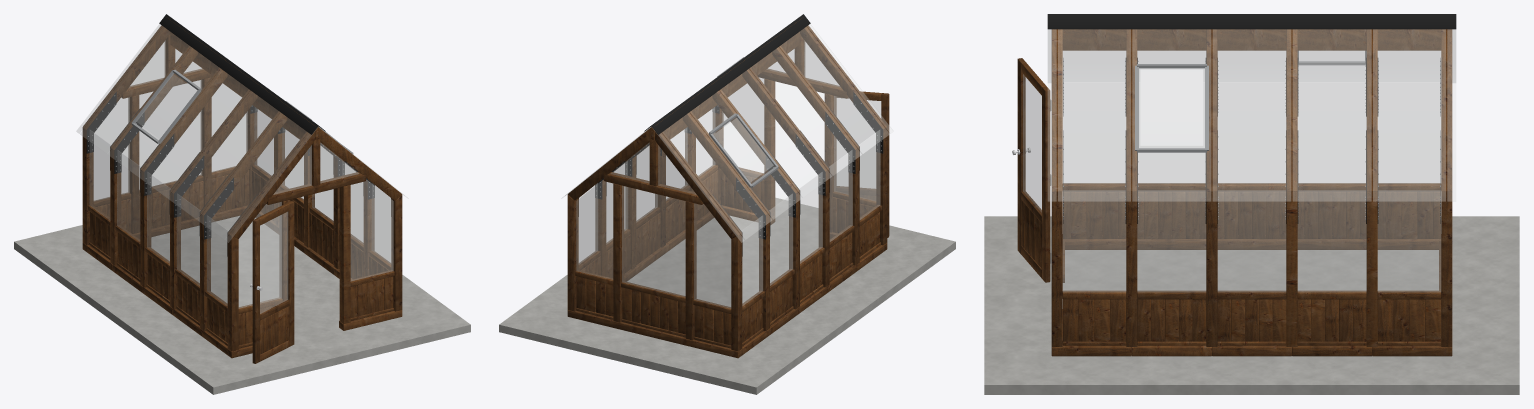
File: nordwood-arrow.glb
3 renders of one model, left to right at view 1: azimuth 30°, elevation 25°; view 2: azimuth 150°, elevation 25°; view 3: azimuth 270°, elevation 25°, orthographic. The views are drawn at different scales.
Parts seen in each view (by area): view 1: nordwood-arrow; view 2: nordwood-arrow; view 3: nordwood-arrow.
Part boxes in pixels (x1,y1,x2,y2): nordwood-arrow: [14, 14, 470, 394]; nordwood-arrow: [499, 14, 955, 394]; nordwood-arrow: [984, 14, 1519, 394].
Bounding box in the file's own units: 3.62 × 2.97 × 4.85.
9 materials, 4 textured.
